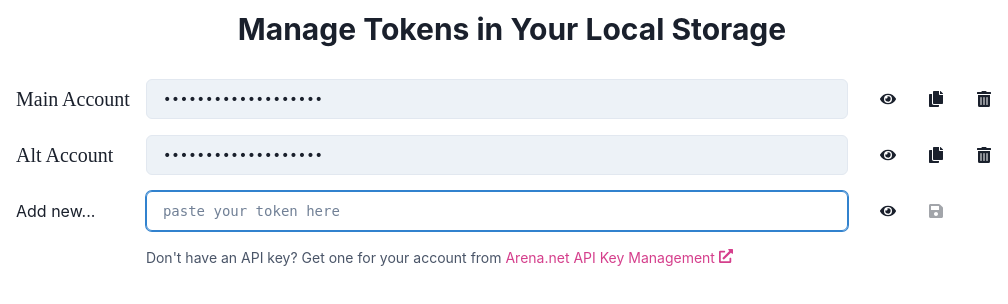
Test: Settings › shows fallback error message when no error message is provided
The image size is (1008, 304).
Type "bad-token" into the password field with placeholder "paste your token here" at {"x": 497, "y": 211}, box [146, 191, 848, 231]
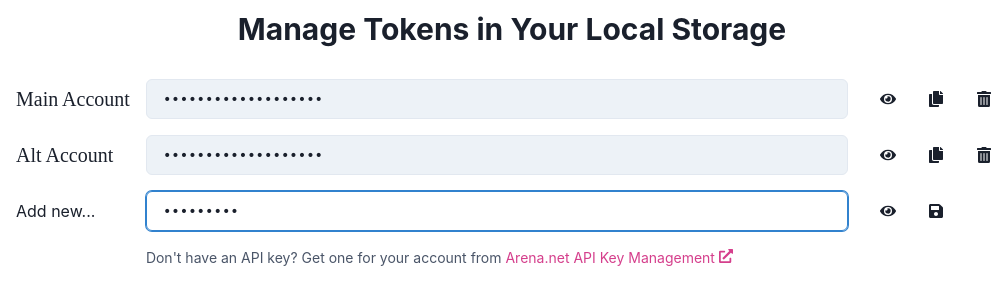
Click the 8th button at {"x": 936, "y": 211}, box [912, 191, 960, 231]
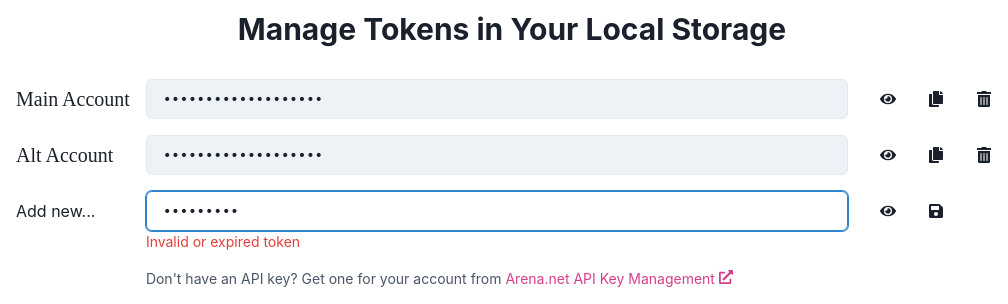
Now the text "Invalid or expired token" is shown, box [146, 233, 300, 250]
